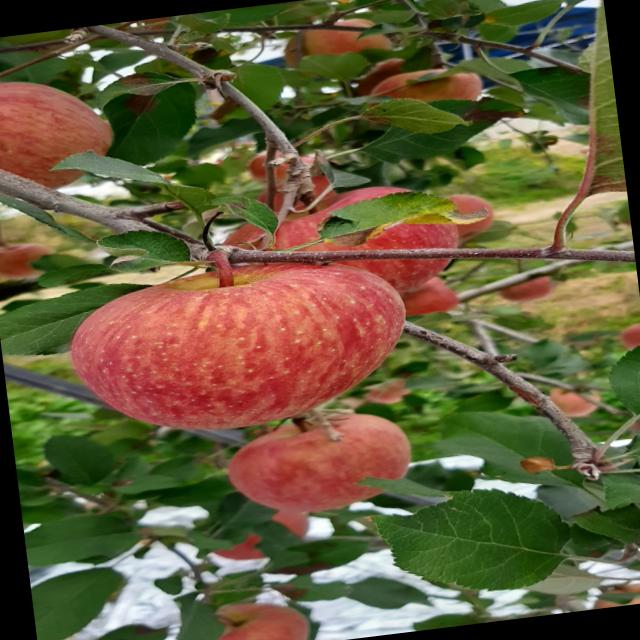fresh: (47, 243, 428, 452)
